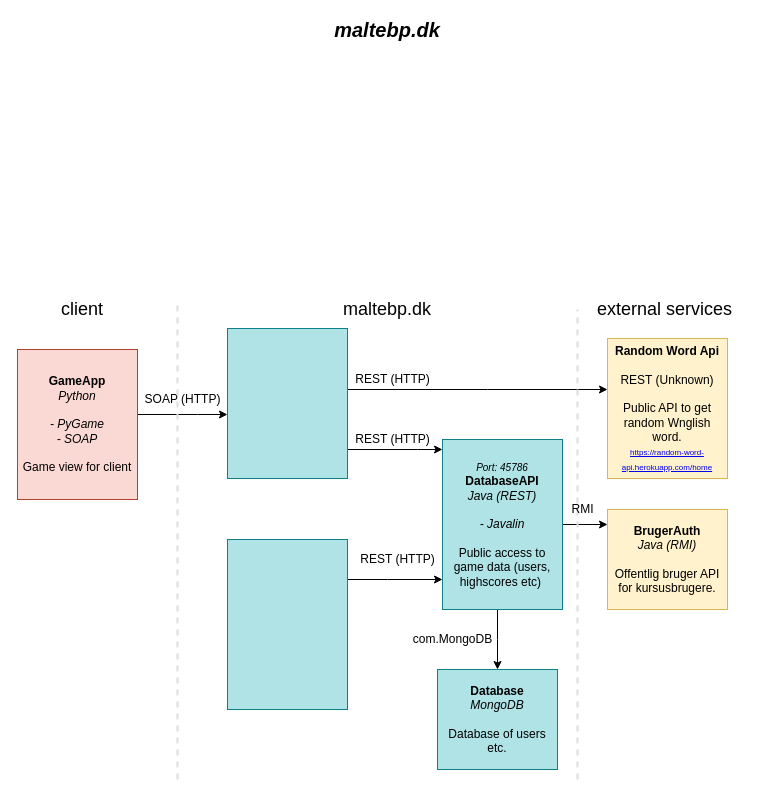
Image size: 760x798. Some labels were removed from this diagram. The shapes that lost their labels are listed below. From the top down, each one's centre as x and y in pixels, then its label:
the point at 287,403: Port: 9902 GameLogic Java (SOAP) - Unirest Udbyder spillogik via SOAP
the point at 287,624: WebSite HTML / JS - jquery - ajax Website to see highsores, and download GameApp
